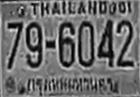0: (77, 20, 94, 66)
2: (116, 18, 135, 66)
4: (97, 18, 113, 66)
6: (58, 21, 74, 66)
7: (7, 22, 22, 66)
9: (25, 21, 43, 67)
BKK: (25, 74, 116, 94)
